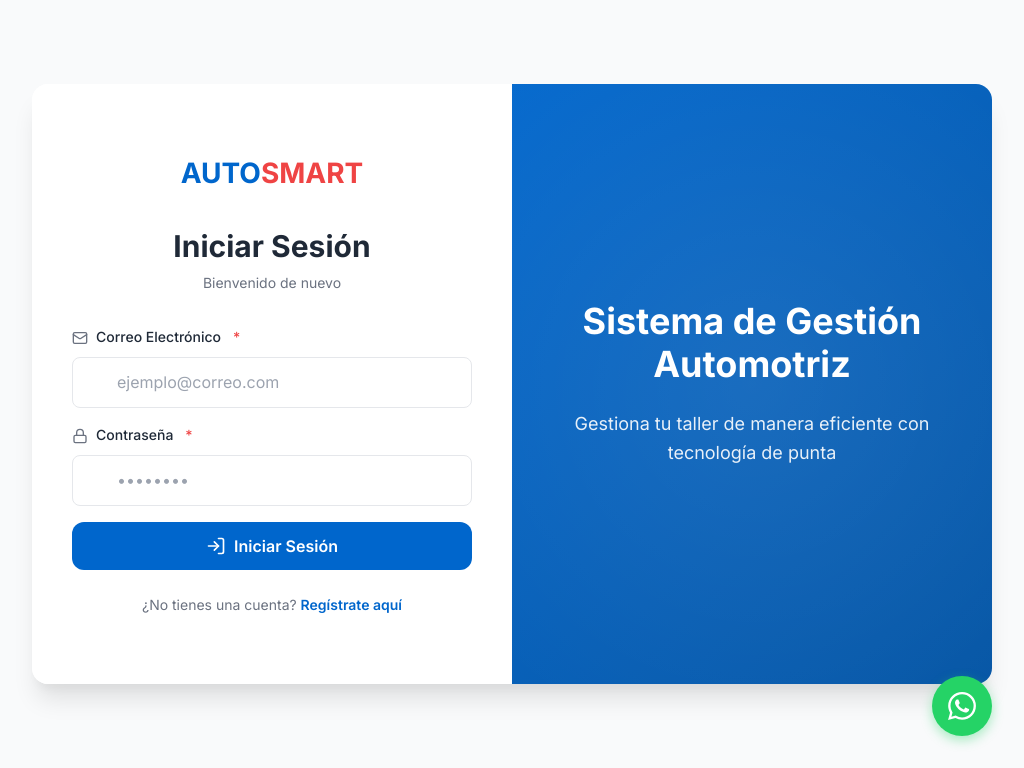
Login › muestra alerta de error cuando el login falla
Type "bad@test.com" into the field with placeholder "ejemplo@correo.com" at (272, 383), box [72, 357, 472, 408]
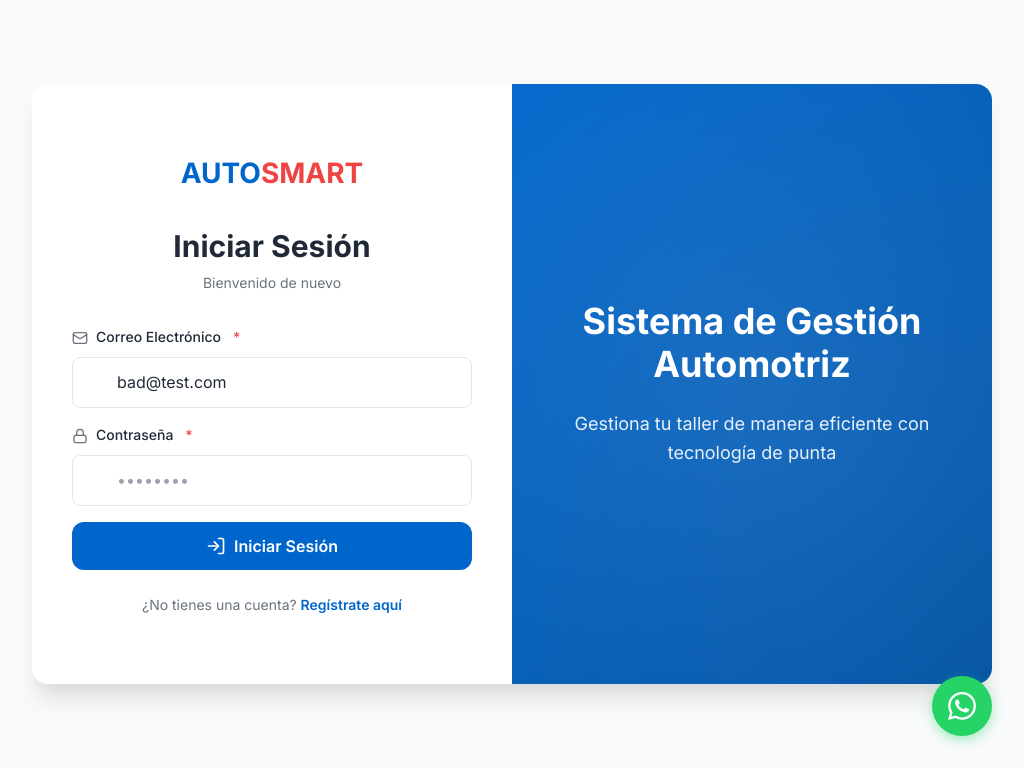
Type "claveincorrecta" into the password field with placeholder "••••••••" at (272, 481), box [72, 455, 472, 506]
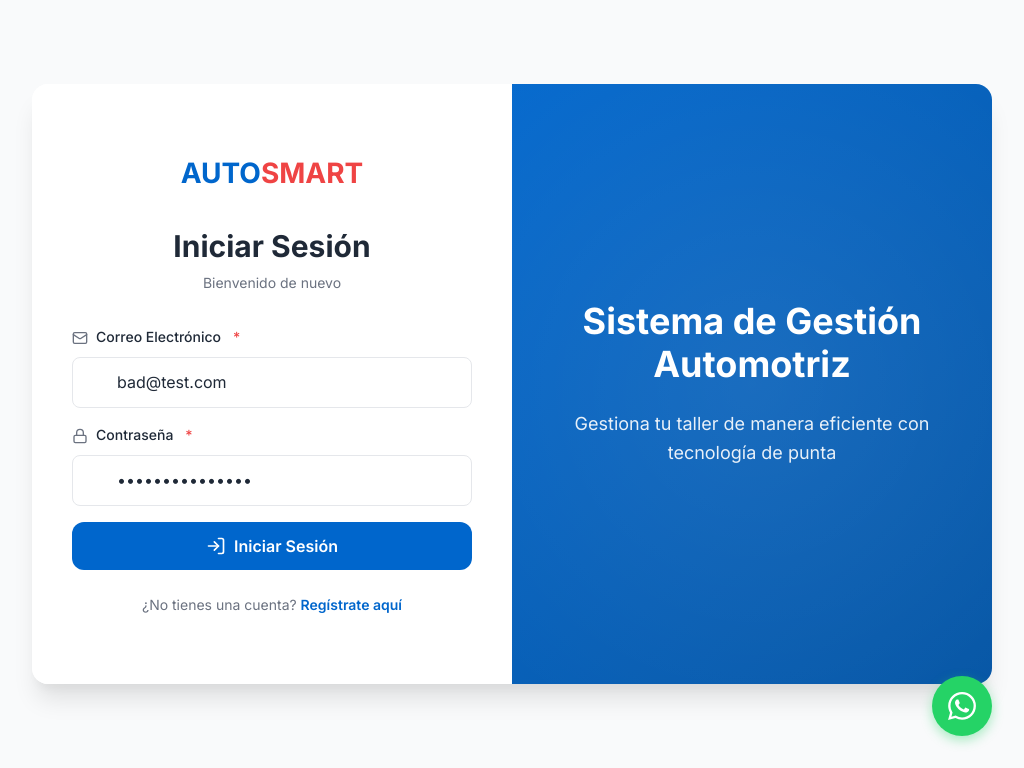
Submit the form, box [72, 326, 472, 570]
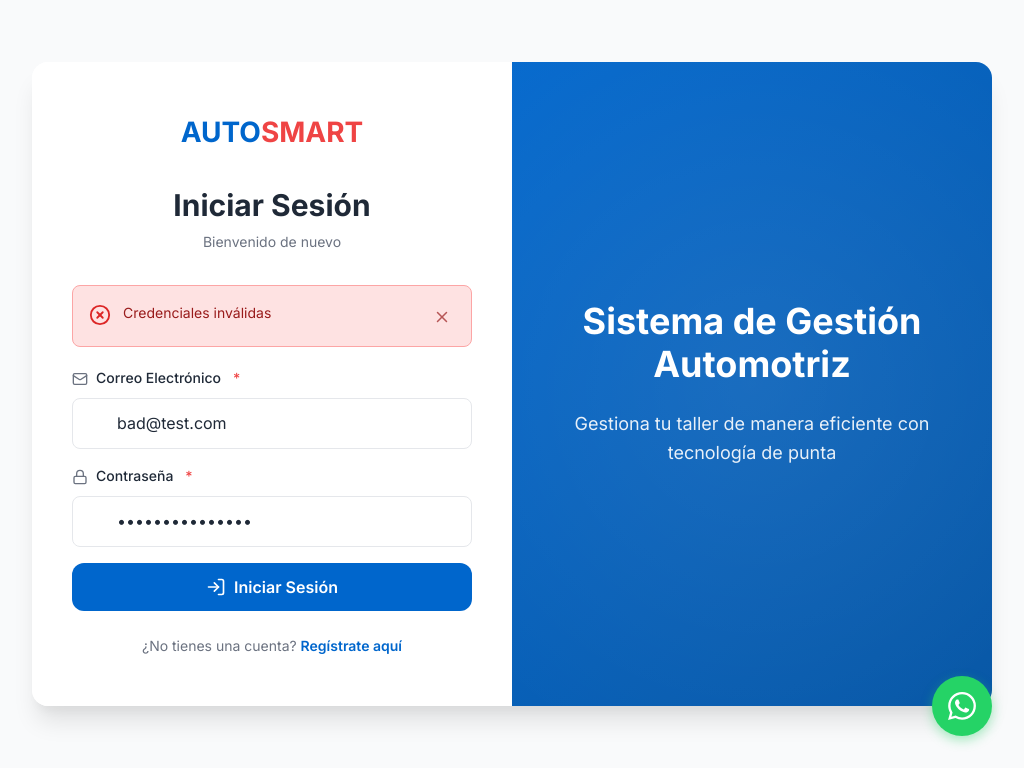
expect the text "Credenciales inválidas" is shown: met, box [123, 304, 271, 321]
